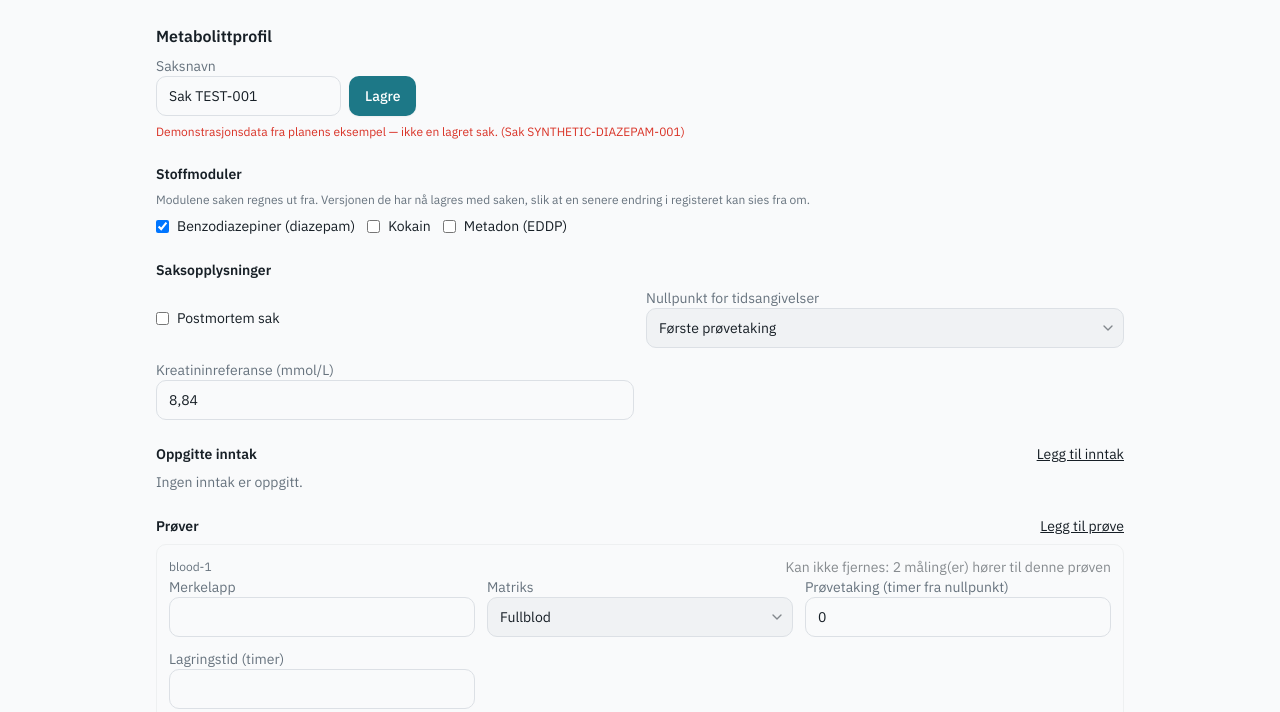
Test case: the pattern case route › follows the case when its module scope changes
The image size is (1280, 712).
Check: the text "sier ikke hvilken versjon" is not shown
Click the checkbox labelled "Kokain": (374, 226) top-left (367, 220), bottom-right (380, 232)
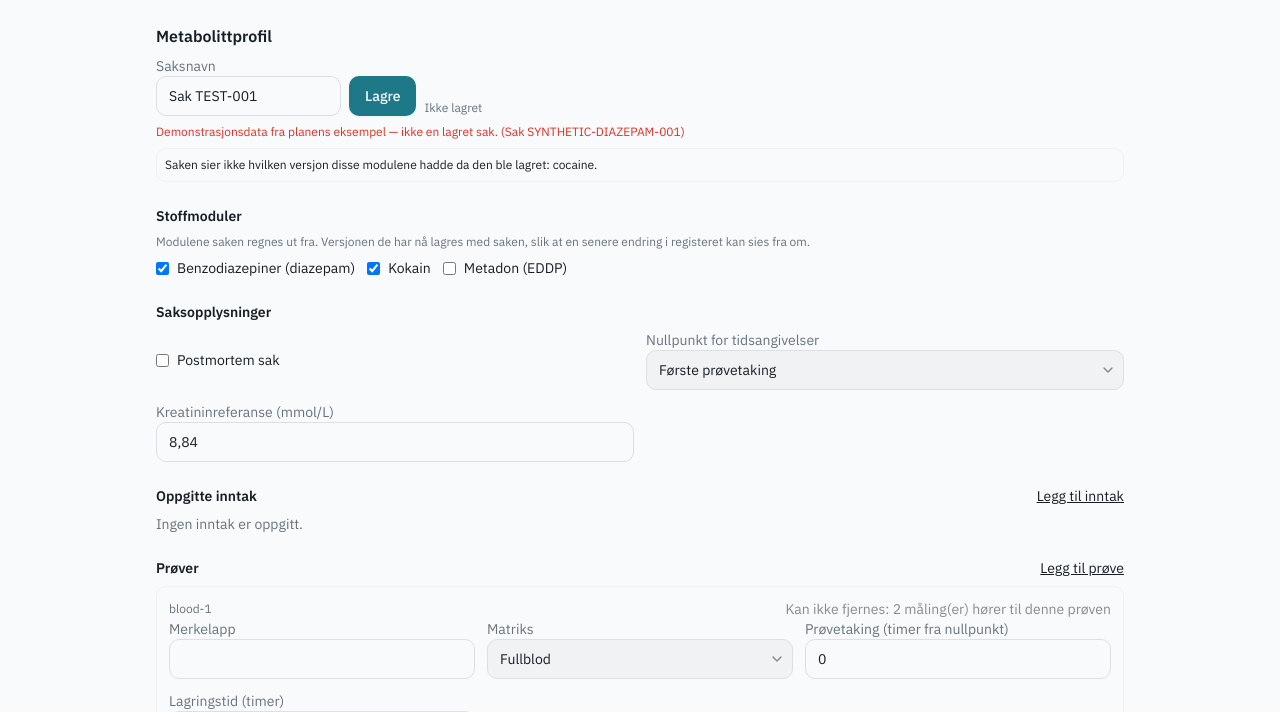
Check: the text "sier ikke hvilken versjon" is shown, box top-left (165, 157), bottom-right (597, 172)
